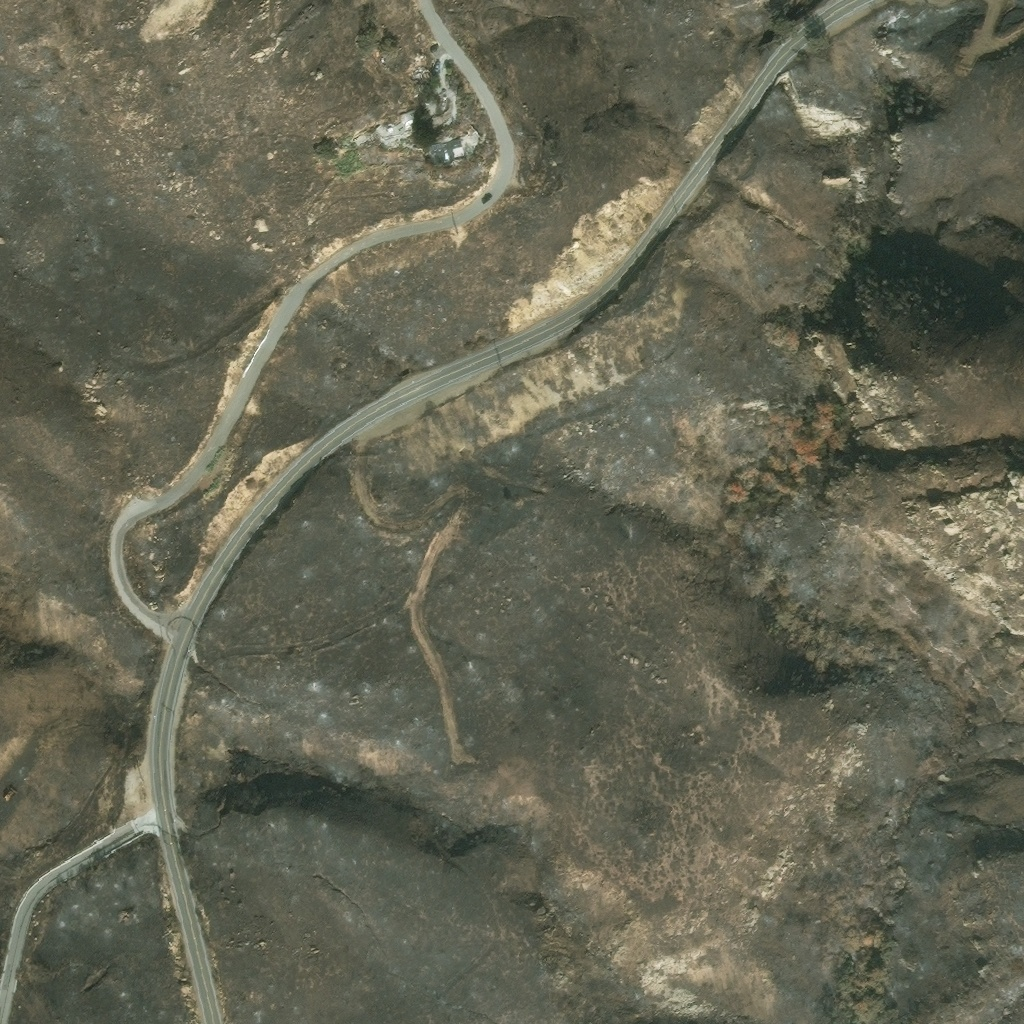0 no-damage: (459, 130, 480, 153), (411, 67, 429, 85), (374, 125, 391, 143), (398, 111, 414, 129), (353, 135, 367, 148), (451, 147, 464, 160)
